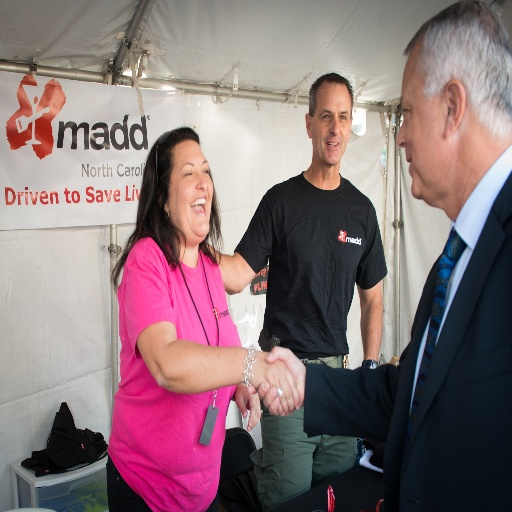hand: (247, 344, 306, 420), (234, 381, 260, 430)
